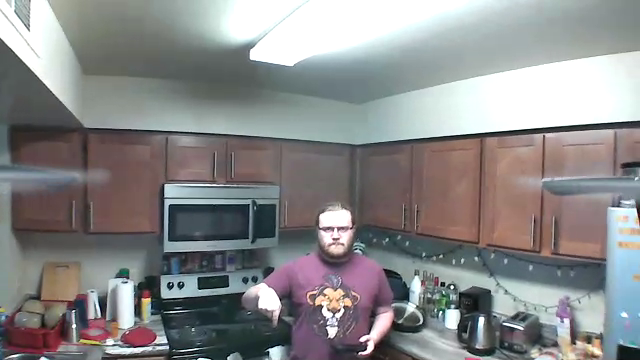down: (252, 281, 282, 332)
